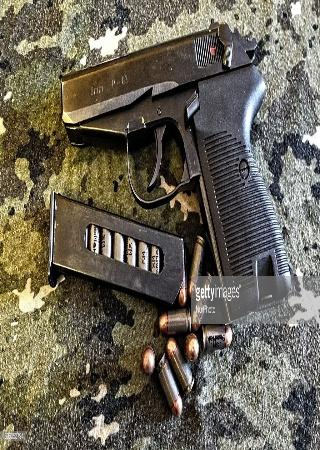handgun: (59, 14, 292, 308)
